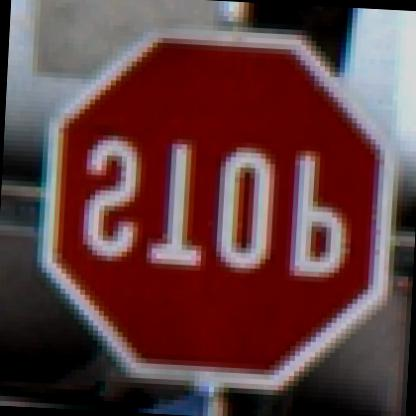stop: (24, 13, 408, 415)
